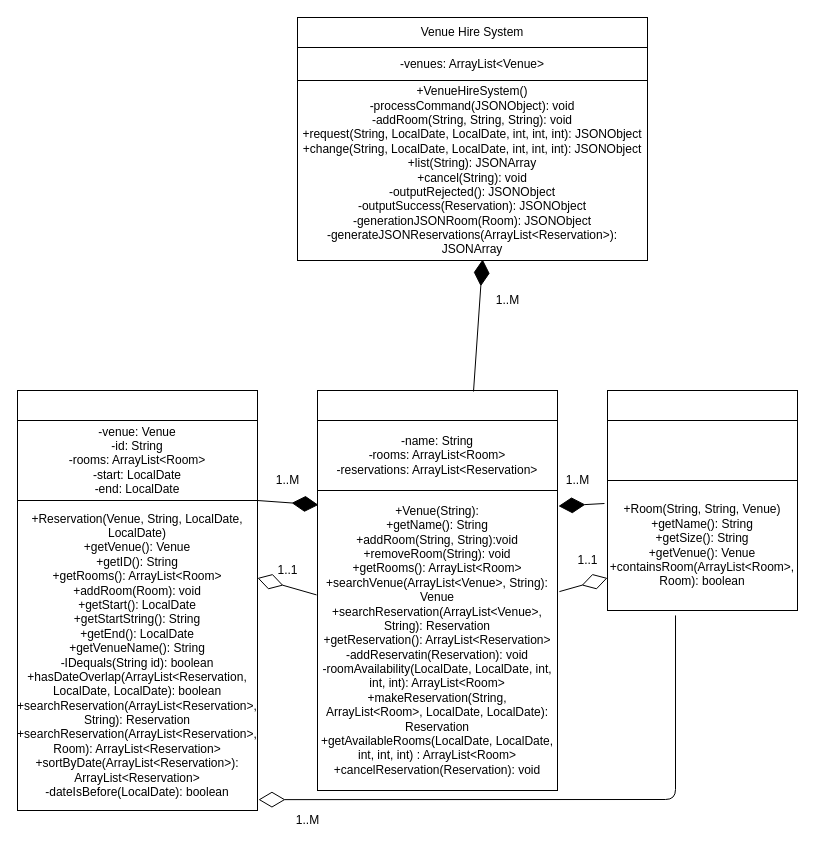
Image size: 815x848. Some labels were removed from this diagram. Here are the shapes that lost their labels. From the top down, the centre of each, then its label:
(x=137, y=405): Reservation
(x=437, y=405): Venue
(x=702, y=405): Room
(x=702, y=450): -name: String -size: String -venue: Venue
